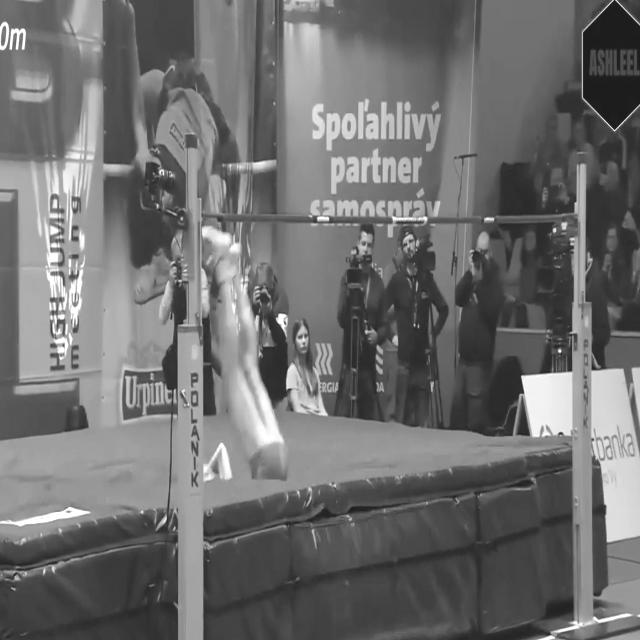land: (203, 224, 289, 478)
